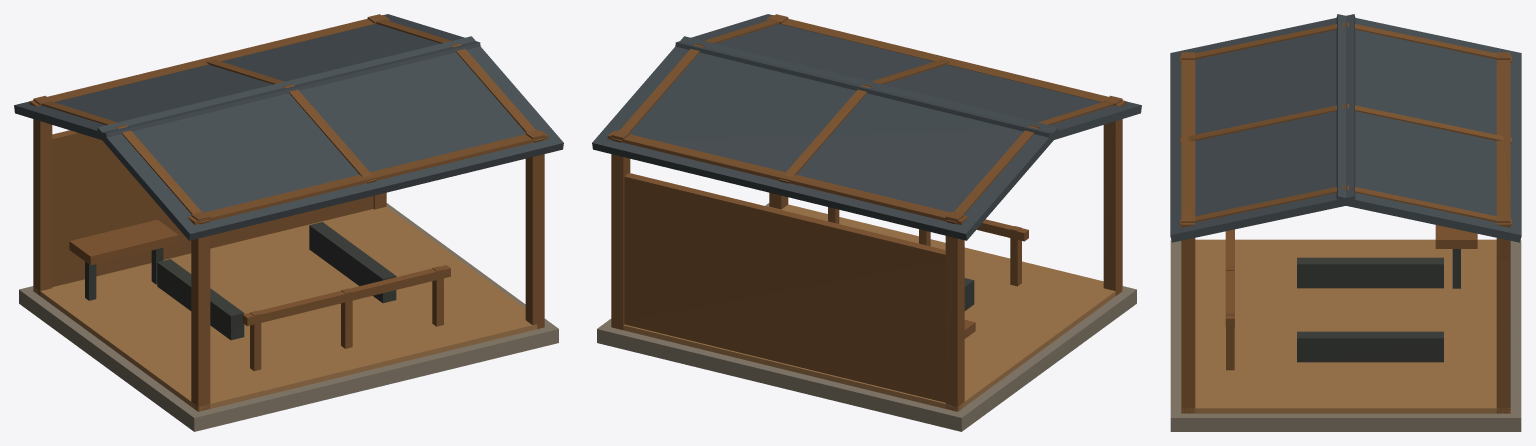
Rendered from Wagon-Depot.glb.
3 views of the same model, side by side, from view 1: azimuth 30°, elevation 25°; view 2: azimuth 150°, elevation 25°; view 3: azimuth 270°, elevation 25° (orthographic).
Parts seen in each view (by area): view 1: wagon-depot-static-wagon-depot-dark-roof, wagon-depot-static-wagon-depot-plank-floor, wagon-depot-static-wagon-depot-warm-timber, wagon-depot-static-wagon-depot-stone-footings, wagon-depot-static-wagon-depot-dark-iron; view 2: wagon-depot-static-wagon-depot-warm-timber, wagon-depot-static-wagon-depot-dark-roof, wagon-depot-static-wagon-depot-plank-floor, wagon-depot-static-wagon-depot-stone-footings; view 3: wagon-depot-static-wagon-depot-dark-roof, wagon-depot-static-wagon-depot-plank-floor, wagon-depot-static-wagon-depot-warm-timber, wagon-depot-static-wagon-depot-stone-footings, wagon-depot-static-wagon-depot-dark-iron.
Part boxes in pixels (left/top/right/bottom): wagon-depot-static-wagon-depot-dark-roof: left=14, top=14, right=563, bottom=240; wagon-depot-static-wagon-depot-plank-floor: left=33, top=206, right=537, bottom=411; wagon-depot-static-wagon-depot-warm-timber: left=29, top=14, right=548, bottom=411; wagon-depot-static-wagon-depot-stone-footings: left=19, top=203, right=558, bottom=431; wagon-depot-static-wagon-depot-dark-iron: left=85, top=222, right=396, bottom=340; wagon-depot-static-wagon-depot-warm-timber: left=607, top=14, right=1126, bottom=411; wagon-depot-static-wagon-depot-dark-roof: left=592, top=14, right=1141, bottom=240; wagon-depot-static-wagon-depot-plank-floor: left=623, top=204, right=1122, bottom=411; wagon-depot-static-wagon-depot-stone-footings: left=597, top=203, right=1136, bottom=431; wagon-depot-static-wagon-depot-dark-roof: left=1170, top=14, right=1521, bottom=242; wagon-depot-static-wagon-depot-plank-floor: left=1181, top=239, right=1510, bottom=413; wagon-depot-static-wagon-depot-warm-timber: left=1180, top=22, right=1511, bottom=413; wagon-depot-static-wagon-depot-stone-footings: left=1170, top=240, right=1521, bottom=431; wagon-depot-static-wagon-depot-dark-iron: left=1297, top=249, right=1460, bottom=362.
Bounding box in the file's own units: 6.15 × 3.75 × 5.02.
